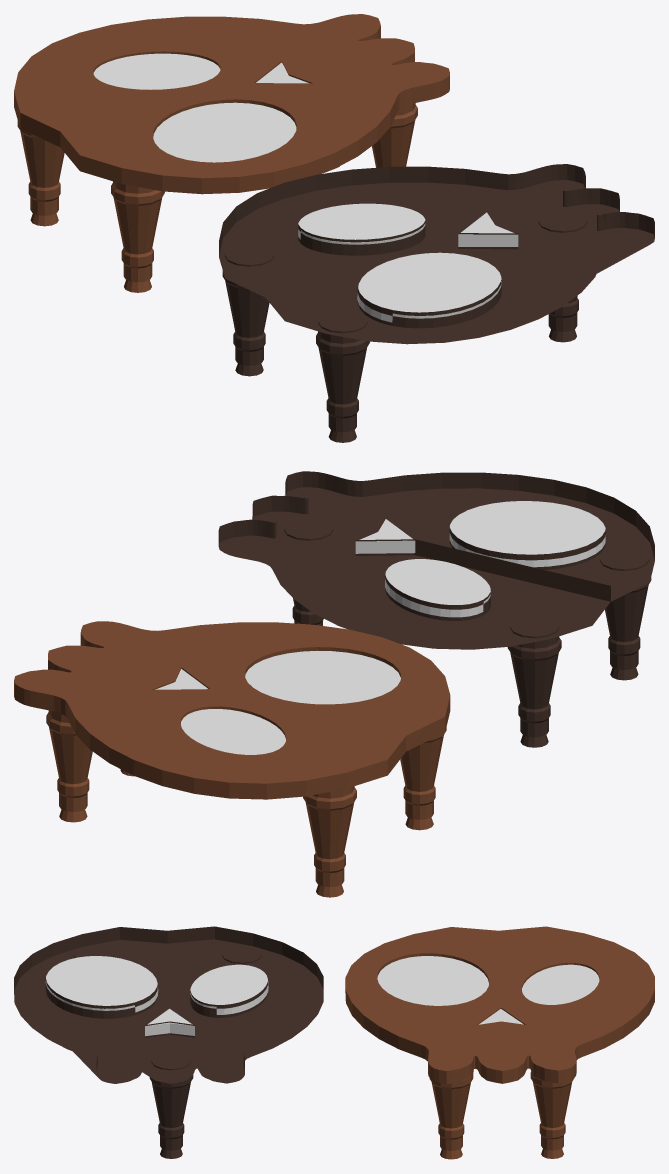
The model's file is Skull_Table.fbx.
3 views of the same model, one above another, from view 1: azimuth 30°, elevation 25°; view 2: azimuth 150°, elevation 25°; view 3: azimuth 270°, elevation 25° (orthographic). The views are drawn at different scales.
Parts seen in each view (by area): view 1: Table_Light, Table_Dark, Table_Dark_Glass, Table_Light_Glass; view 2: Table_Light, Table_Dark, Table_Dark_Glass, Table_Light_Glass; view 3: Table_Light, Table_Dark, Table_Dark_Glass, Table_Light_Glass.
Boxes of the visible parts, <box> form: Table_Light: <box>14,14,449,292</box>; Table_Dark: <box>219,164,654,442</box>; Table_Dark_Glass: <box>298,203,518,322</box>; Table_Light_Glass: <box>93,53,308,162</box>; Table_Light: <box>14,621,450,897</box>; Table_Dark: <box>218,471,654,747</box>; Table_Dark_Glass: <box>355,501,605,617</box>; Table_Light_Glass: <box>155,650,400,754</box>; Table_Light: <box>345,926,654,1159</box>; Table_Dark: <box>14,926,323,1158</box>; Table_Dark_Glass: <box>45,956,268,1036</box>; Table_Light_Glass: <box>377,956,599,1024</box>.
Size of the model in its own units: 230 by 77.77 by 430.
